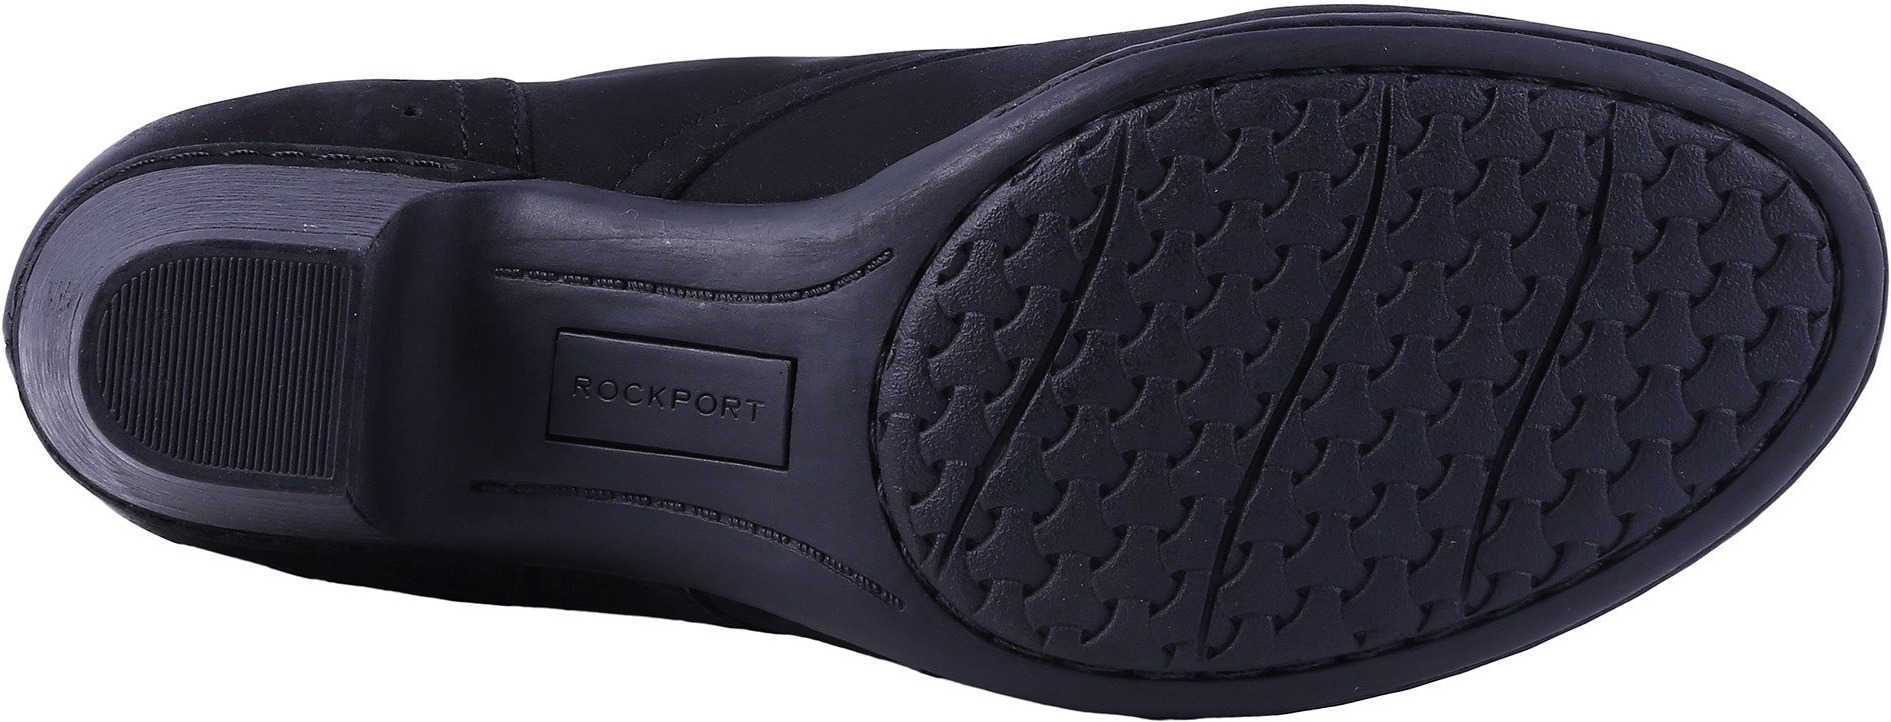line: (165, 265, 332, 452)
star: (1278, 434, 1507, 635), (1122, 196, 1340, 392)
triangle: (1278, 434, 1507, 635), (1122, 196, 1340, 392)
